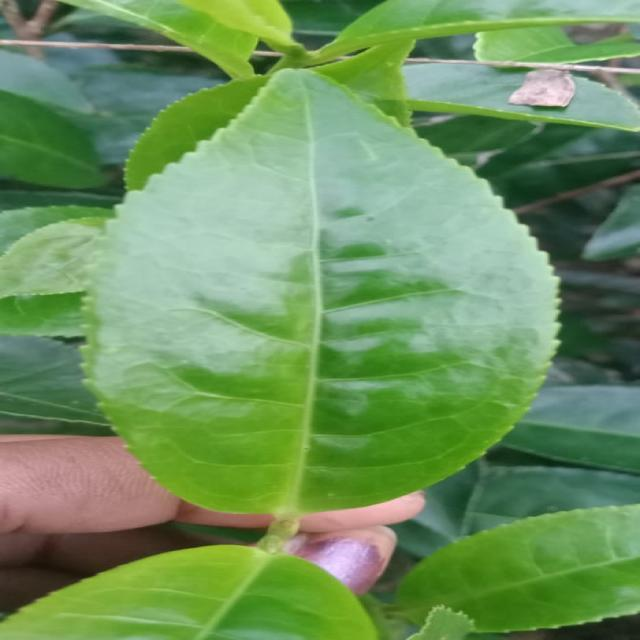Category B 2-4 days: (87, 70, 565, 524)
